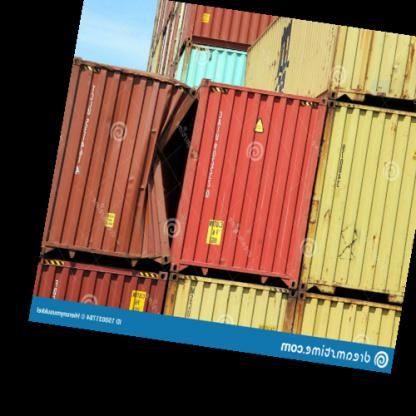Damage: (141, 84, 204, 253), (143, 97, 206, 244)
